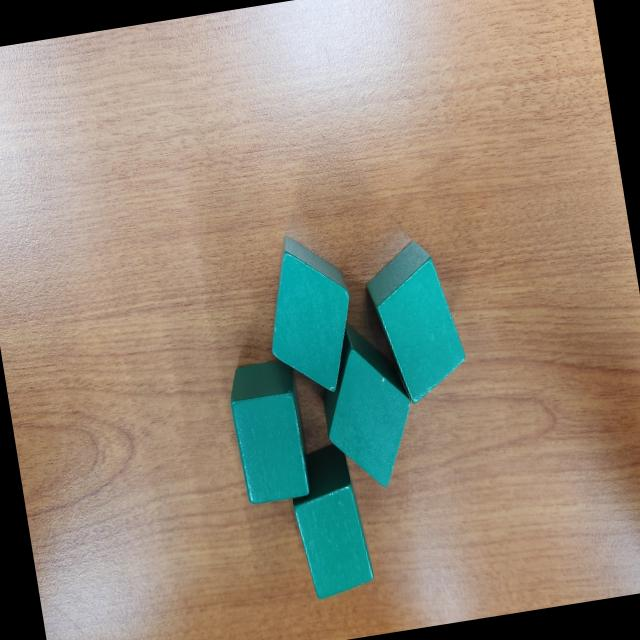green: (310, 315, 424, 496), (359, 235, 472, 407), (254, 227, 364, 401), (284, 440, 377, 601), (223, 357, 314, 509)
